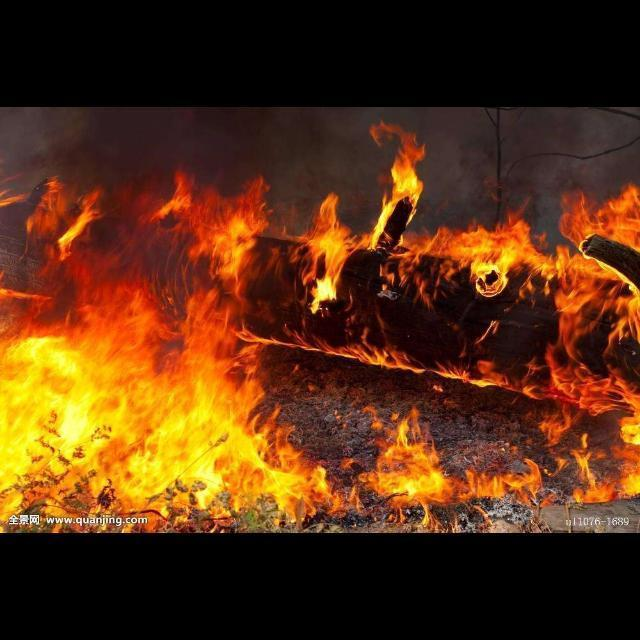Fire: (1, 120, 640, 534)
Smoke: (1, 108, 640, 252)
